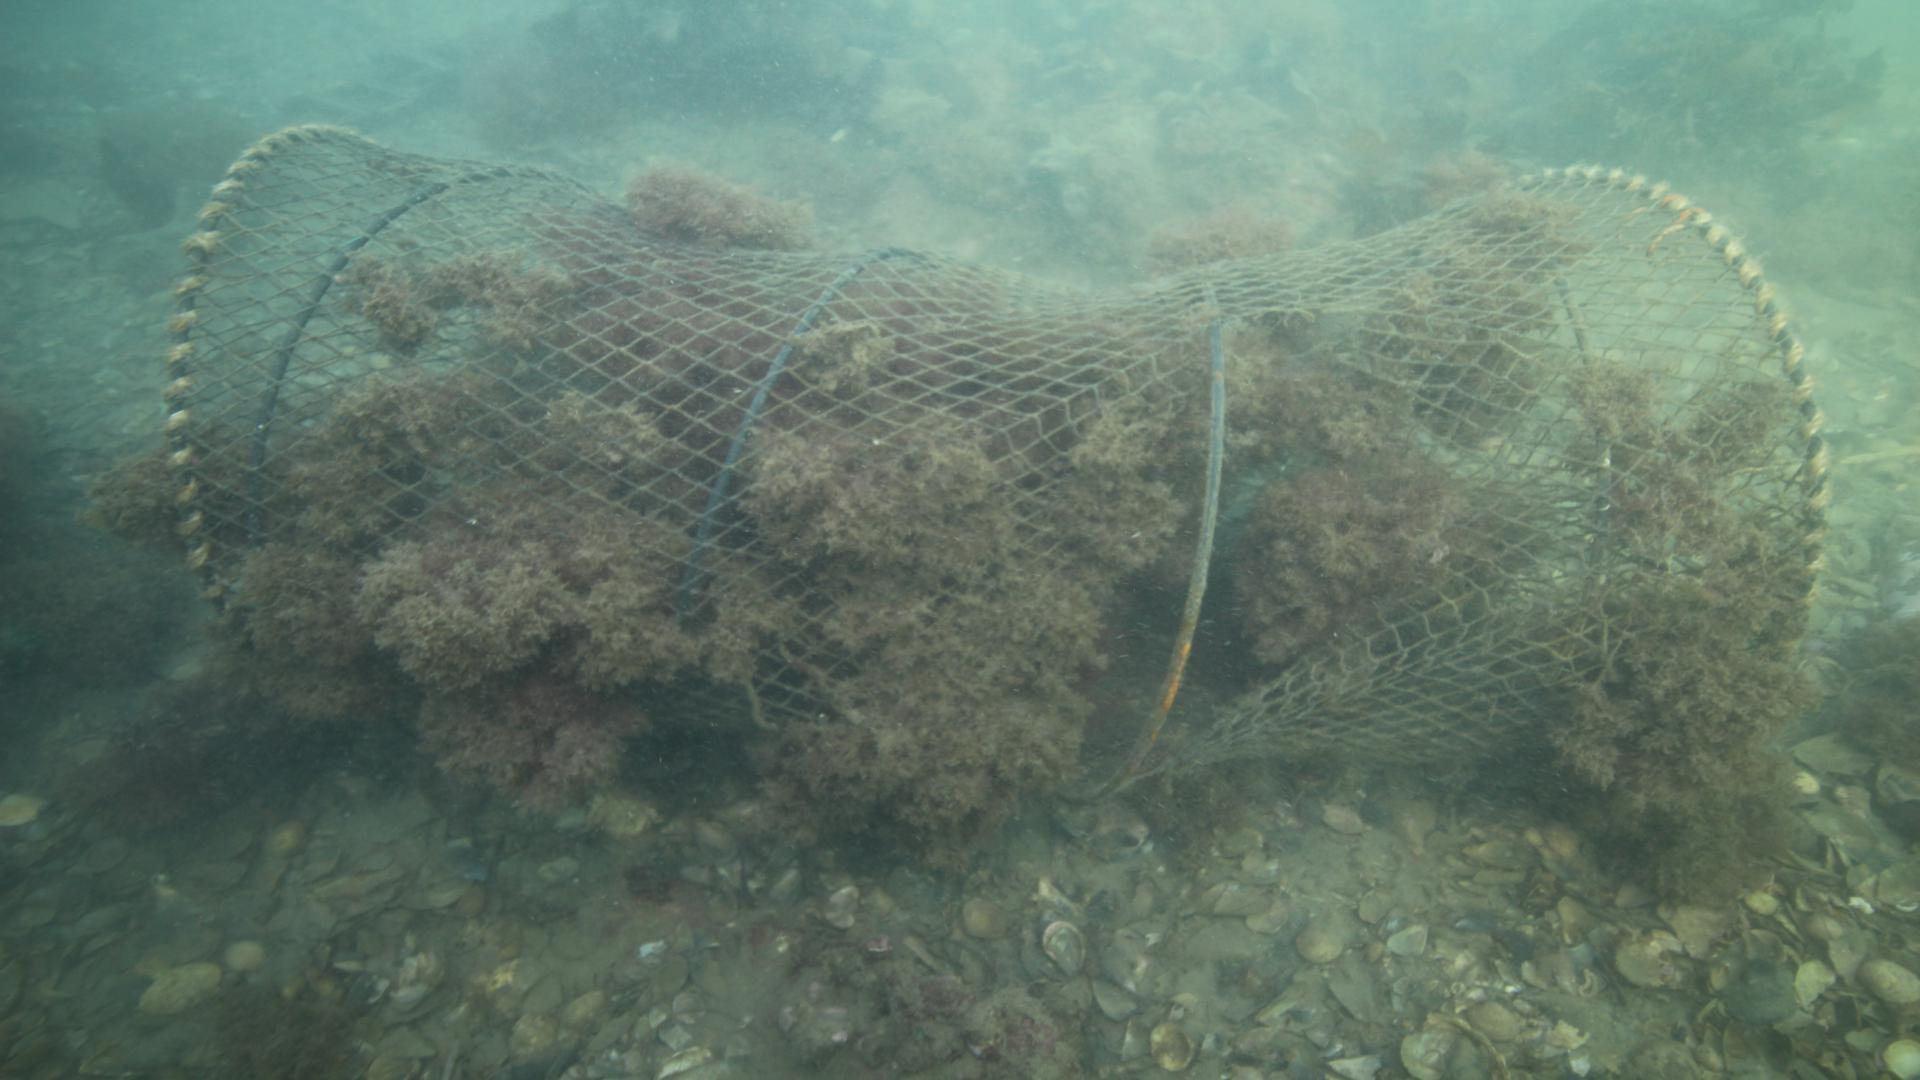spring fish trap: (161, 123, 1828, 806)
